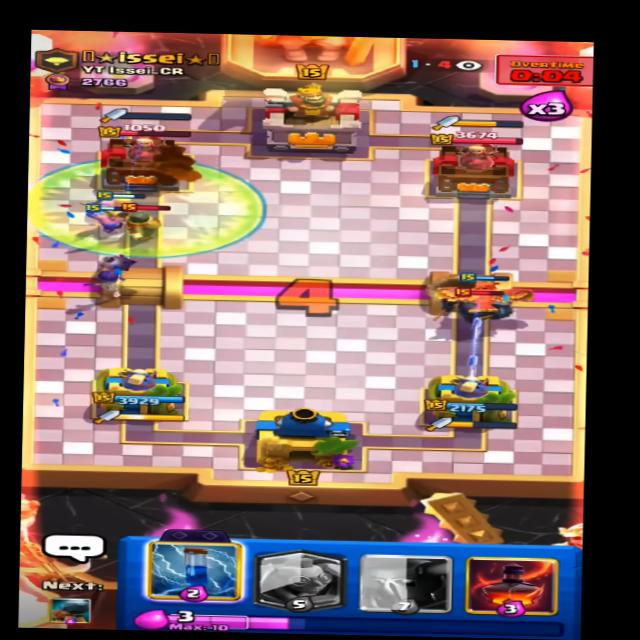knight: (115, 198, 181, 246)
pekka: (439, 283, 525, 323)
